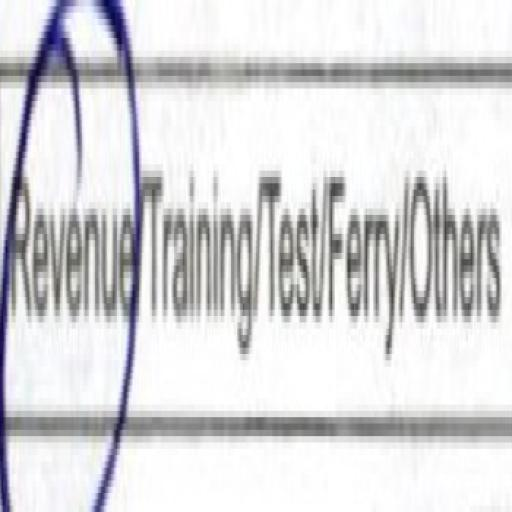check: (2, 0, 140, 512)
